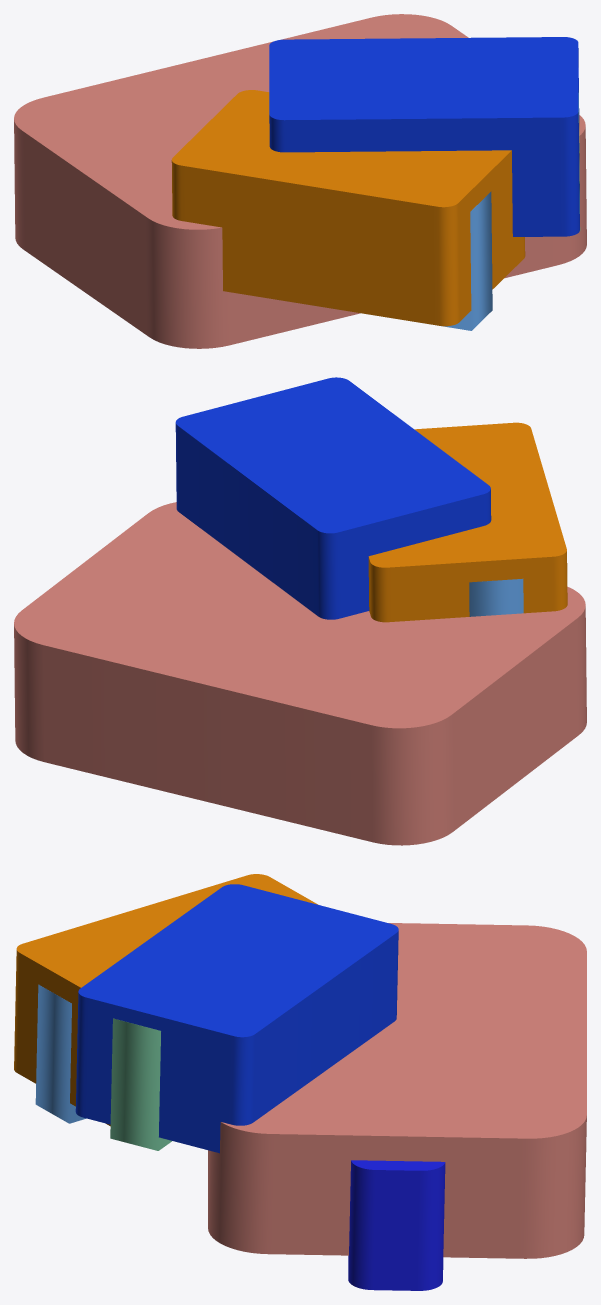
The model's file is wallet1.glb.
3 renders of one model, top to bottom at view 1: azimuth 30°, elevation 25°; view 2: azimuth 150°, elevation 25°; view 3: azimuth 270°, elevation 25°, orthographic.
Visible parts, largest first — view 1: Shape_93_, Shape_94_, Shape_95_, Stripe_1_; view 2: Shape_93_, Shape_95_, Shape_94_, Stripe_1_; view 3: Shape_93_, Shape_95_, Shape_92_, Shape_94_, Stripe_2_, Stripe_1_.
Part boxes in pixels (x1,y1,x2,y2): Shape_93_: [14, 14, 586, 348]; Shape_94_: [171, 90, 525, 326]; Shape_95_: [269, 37, 579, 236]; Stripe_1_: [441, 191, 492, 330]; Shape_93_: [14, 502, 586, 845]; Shape_95_: [175, 377, 491, 619]; Shape_94_: [368, 422, 567, 622]; Stripe_1_: [469, 579, 523, 616]; Shape_93_: [208, 923, 586, 1258]; Shape_95_: [75, 884, 398, 1153]; Shape_92_: [348, 1160, 445, 1290]; Shape_94_: [14, 874, 317, 1126]; Stripe_2_: [110, 1018, 171, 1150]; Stripe_1_: [35, 984, 86, 1123].
Size of the model in its own units: 2.43 by 1.27 by 2.65.
